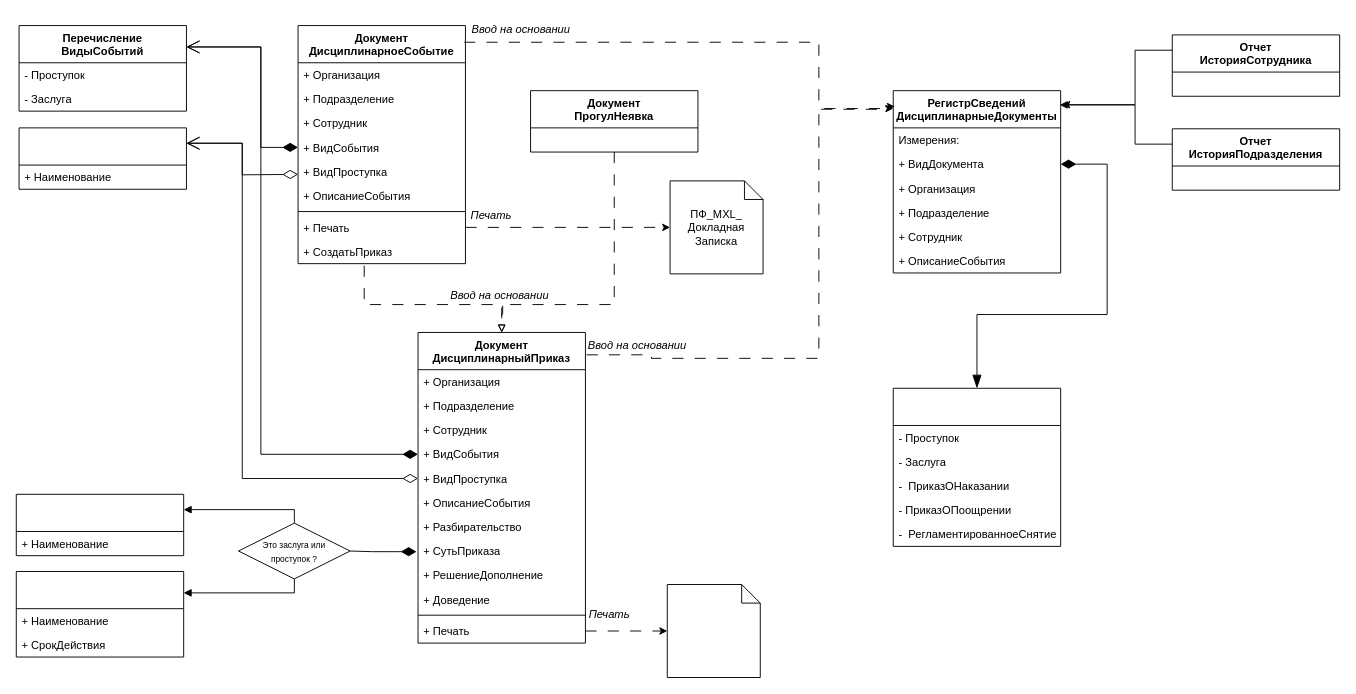
Some shapes in this 1356 by 694 pixel diagram are drawn without their labels. Here are the shapes that lost their labels. From the top down, the box of each, then its label:
(18, 127, 186, 189): Справочник ВидыПроступков
(892, 387, 1061, 546): Перечисление ВидыДокументов
(15, 493, 184, 556): Справочник ВидыПоощрений
(15, 571, 184, 657): Справочник ВидыНаказаний
(666, 584, 760, 678): ПФ_MXL_ Дисциплинарный Приказ
